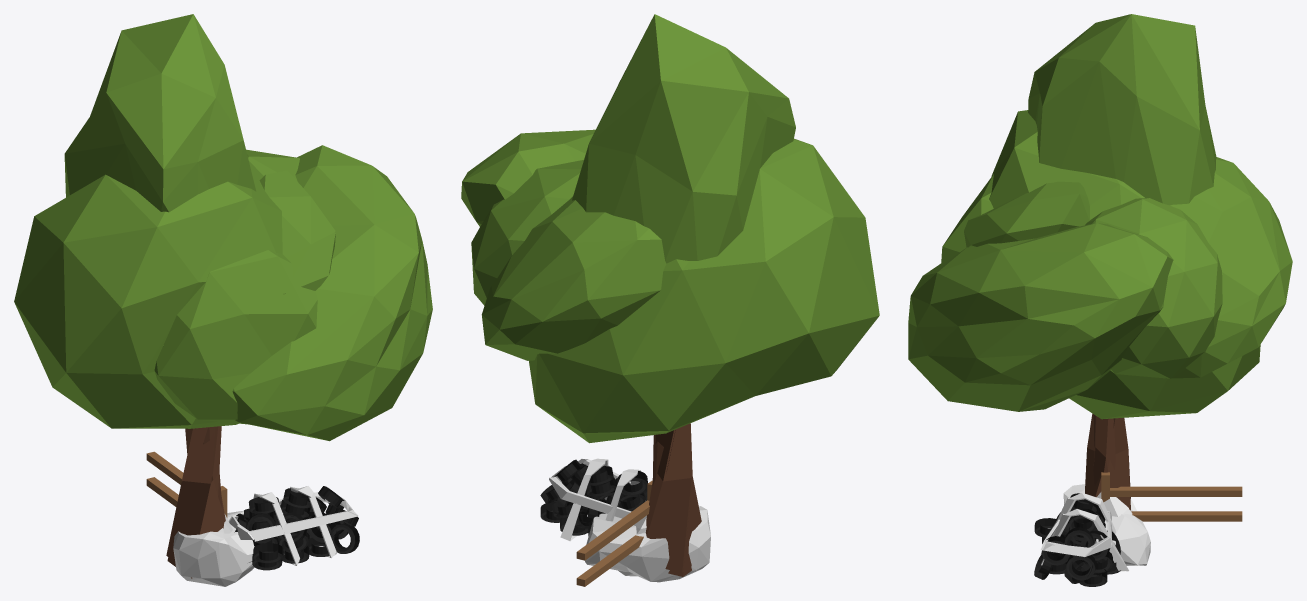
Rendered from obstacles and environment elements.fbx.
3 renders of one model, left to right at view 1: azimuth 30°, elevation 25°; view 2: azimuth 150°, elevation 25°; view 3: azimuth 270°, elevation 25°, orthographic. The views are drawn at different scales.
Parts seen in each view (by area): view 1: tree 3, tree 2, tree 4, tree 1, a bunch of tyres, stone 2, fence; view 2: tree 3, tree 4, tree 2, tree 1, a bunch of tyres, stone 2, fence; view 3: tree 2, tree 4, tree 1, tree 3, a bunch of tyres, fence, stone 2.
Part boxes in pixels (x1=…): tree 3: x1=14, y1=161, x2=282, y2=560; tree 2: x1=163, y1=145, x2=432, y2=508; tree 4: x1=64, y1=14, x2=256, y2=561; tree 1: x1=154, y1=149, x2=317, y2=578; a bunch of tyres: x1=228, y1=486, x2=359, y2=570; stone 2: x1=173, y1=510, x2=254, y2=586; fence: x1=146, y1=451, x2=226, y2=514; tree 3: x1=529, y1=138, x2=879, y2=570; tree 4: x1=572, y1=14, x2=795, y2=572; tree 2: x1=461, y1=129, x2=666, y2=485; tree 1: x1=471, y1=160, x2=691, y2=576; a bunch of tyres: x1=540, y1=458, x2=647, y2=540; stone 2: x1=585, y1=506, x2=710, y2=582; fence: x1=576, y1=484, x2=650, y2=586; tree 2: x1=908, y1=157, x2=1292, y2=485; tree 4: x1=1028, y1=14, x2=1216, y2=510; tree 1: x1=941, y1=174, x2=1222, y2=448; tree 3: x1=989, y1=110, x2=1260, y2=499; a bunch of tyres: x1=1034, y1=493, x2=1128, y2=586; fence: x1=1102, y1=476, x2=1242, y2=521; stone 2: x1=1063, y1=484, x2=1150, y2=565.
Bounding box in the file's own units: 9.37 × 13.44 × 8.73.
Materials: 6 (4 with a texture image).
